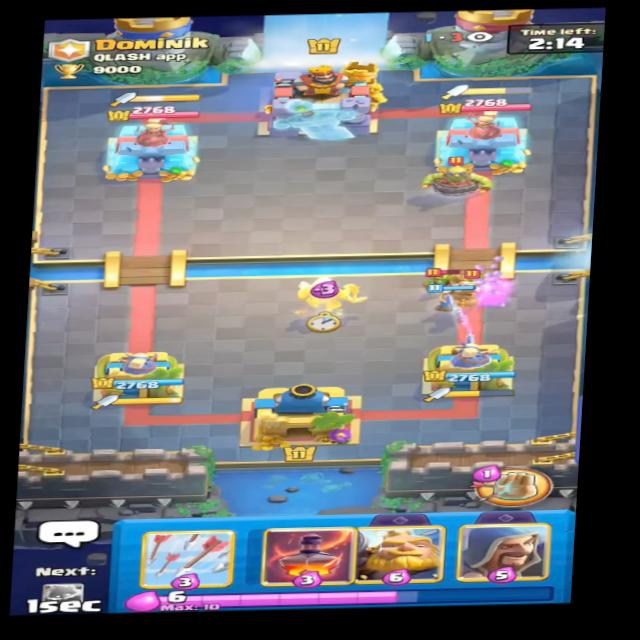Goblin: (449, 251, 481, 272), (423, 267, 455, 285)
Goblindemolisher: (420, 155, 493, 195)
